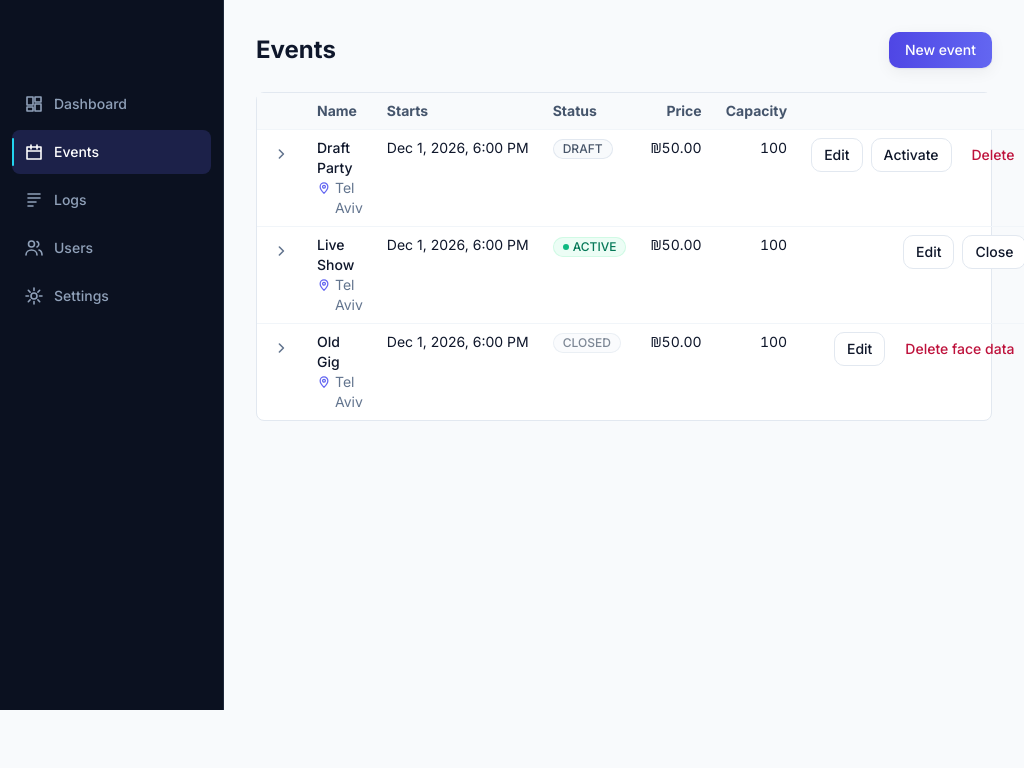
Scenario: EventsAdminPage › checks the price before sending
This screenshot has width=1024, height=768.
Click the button "New event" at [940, 50], box [889, 32, 992, 68]
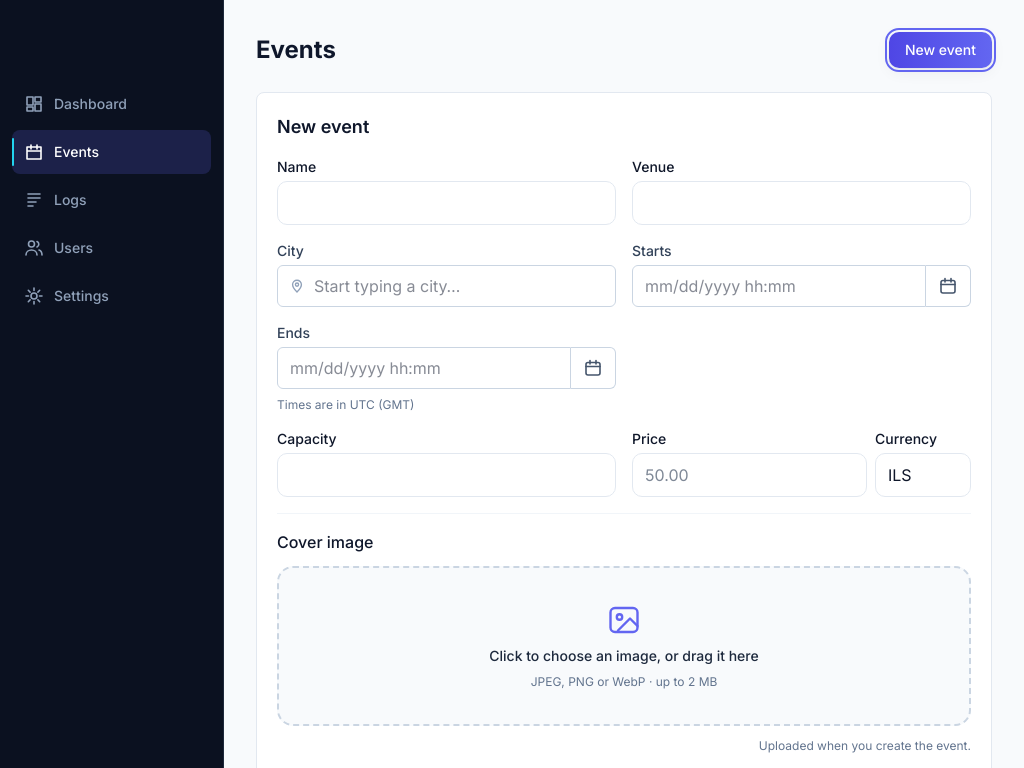
Type "abc" into the field labelled "Price" at [750, 475], box [632, 453, 867, 497]
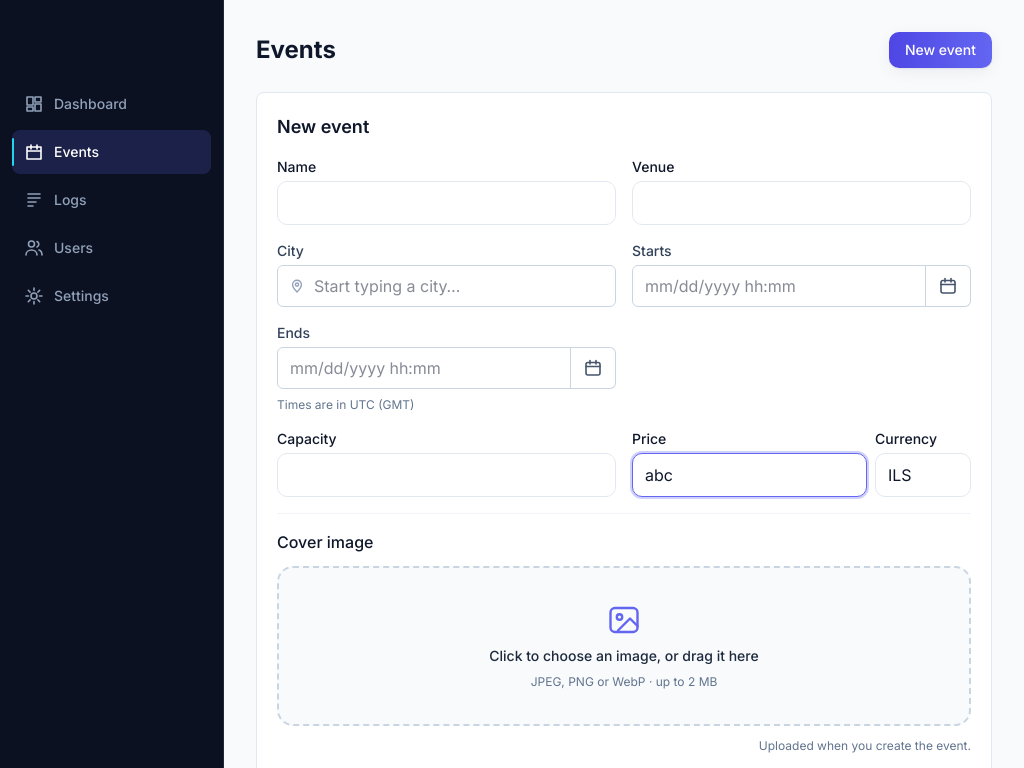
Type "10" into the number field labelled "Capacity" at [446, 475], box [277, 453, 616, 497]
(page scrolled)
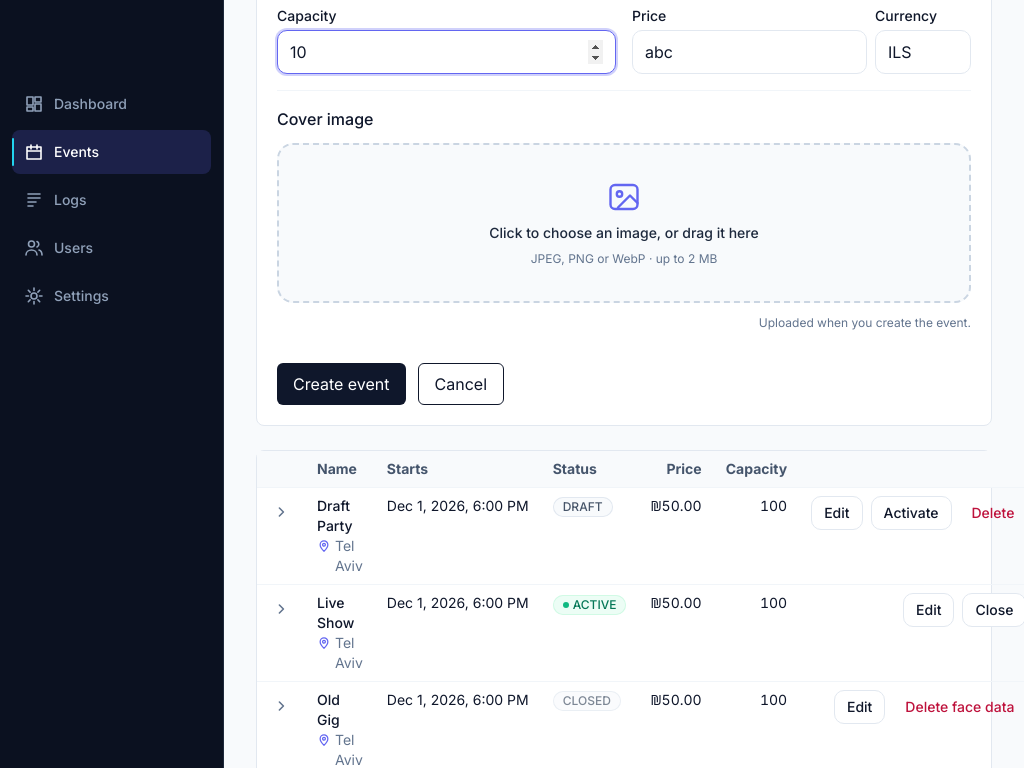
Click the button "Create event" at [341, 384], box [277, 363, 406, 405]
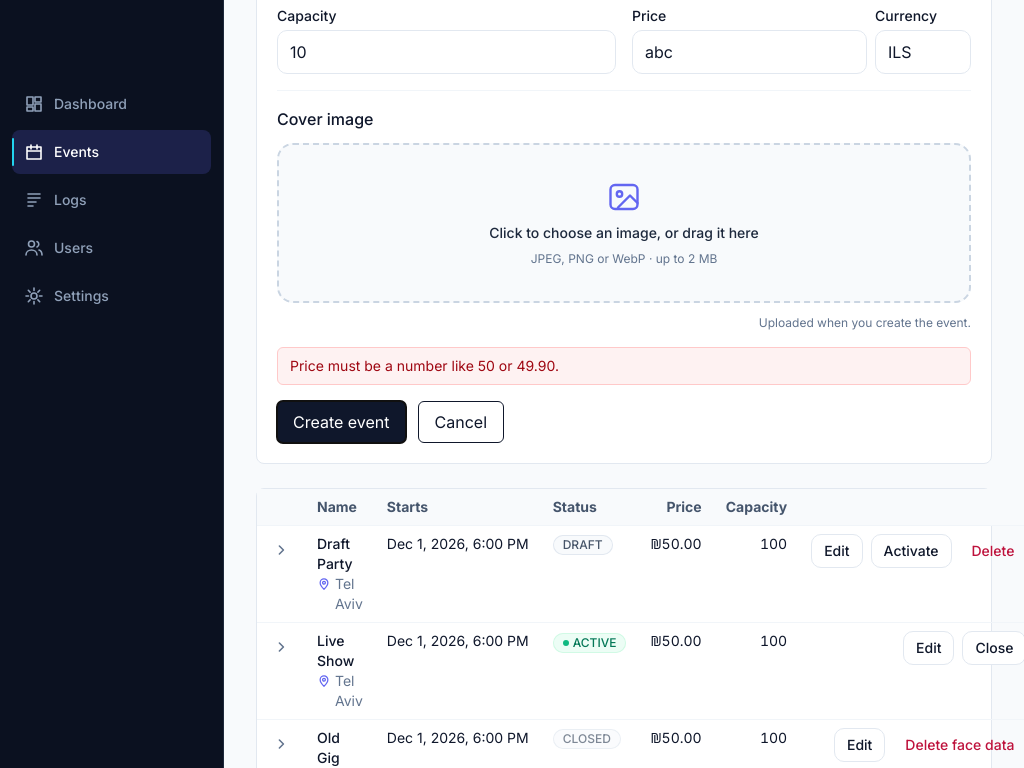
Now the message shows "Price must be a number", box [290, 357, 559, 374]
